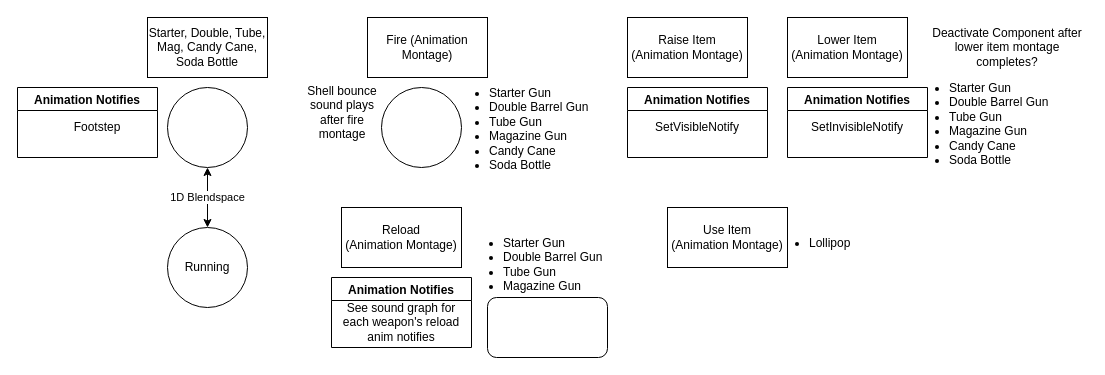
Image size: 1105x375. Some labels were removed from this diagram. Here are the shapes that lost their labels. From the top down, the centre of each, then its label:
point 207,127: Idle
point 421,127: Fire
point 547,327: Each weapon will require its own reload animation montage
